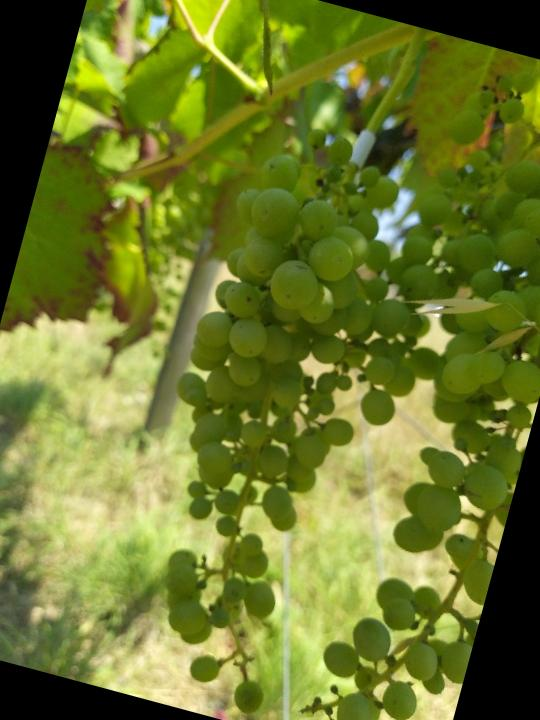grape: (98, 109, 491, 720)
